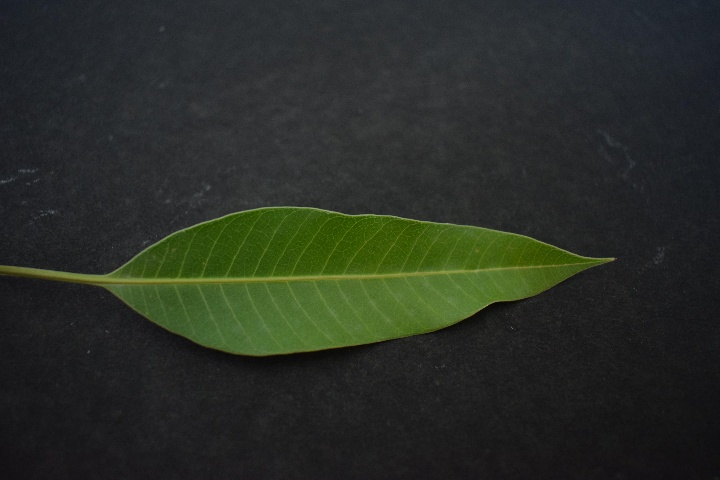healthy: (106, 203, 597, 359)
